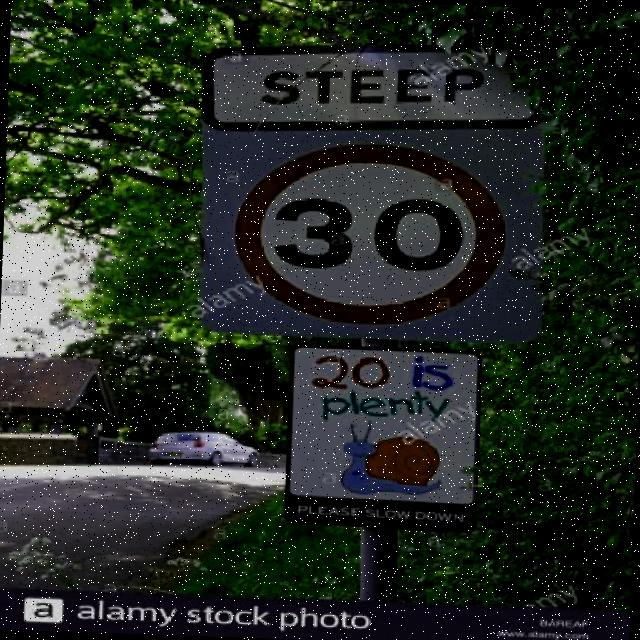Ograniczenie predkosci do 30: (226, 139, 509, 330)
